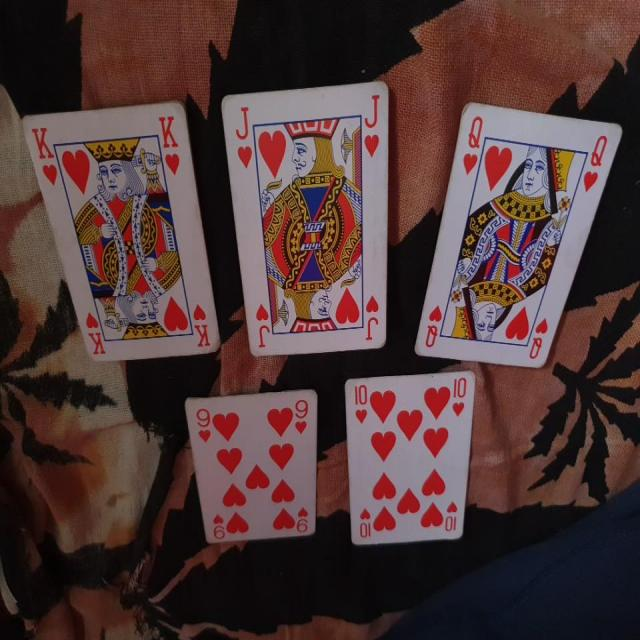10 Hearts: (337, 366, 477, 545)
9 Hearts: (175, 382, 326, 553)
J Hearts: (211, 68, 394, 360)
K Hearts: (22, 100, 225, 364)
Q Hearts: (413, 88, 626, 378)
